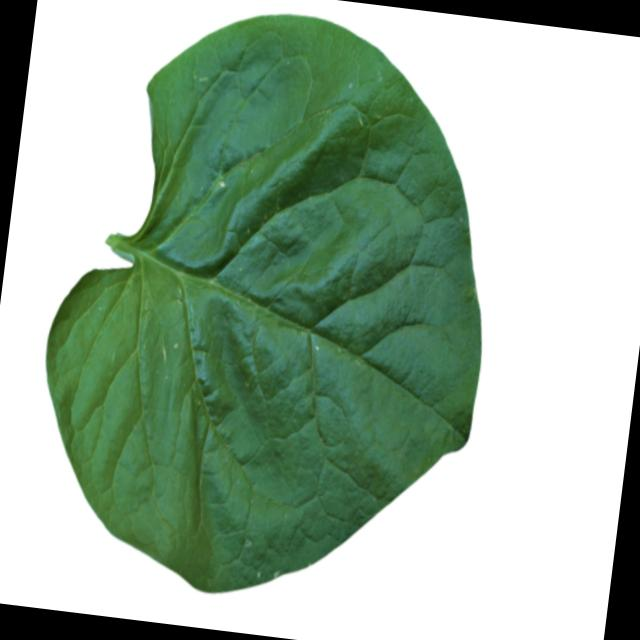Medicinal-Basale: (17, 0, 520, 624)
